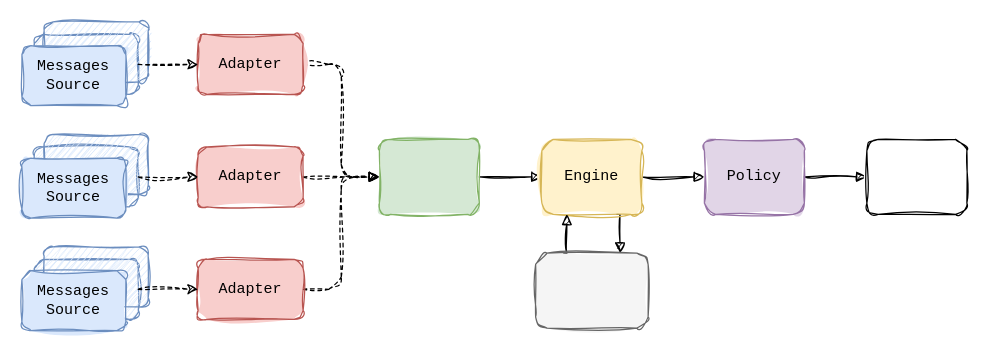
This 989x353 diagram has some shape labels left out. The shapes that lost their labels are listed below. From the top down, each one's box as (x1, y1, x2, y2) in pixels, then its label:
(378, 138, 479, 214): Norm
(866, 138, 967, 214): Interface
(534, 252, 648, 328): Conversation Status
